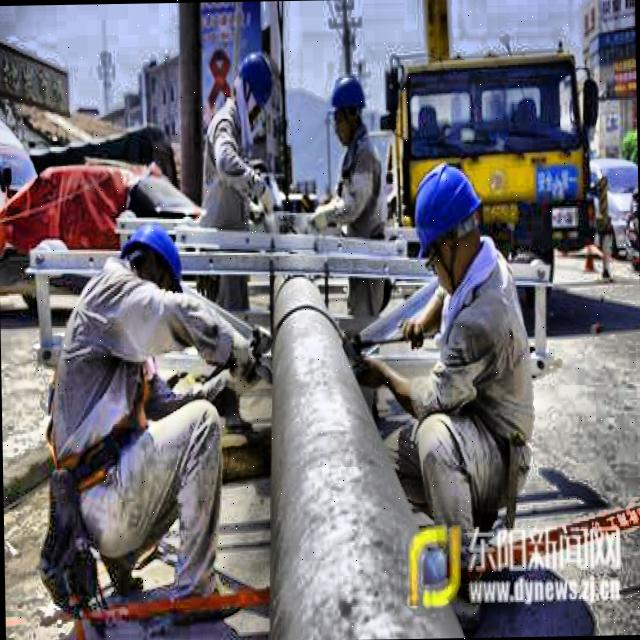helmet: (411, 157, 487, 296), (116, 220, 180, 292), (233, 47, 280, 122), (324, 69, 370, 144)
